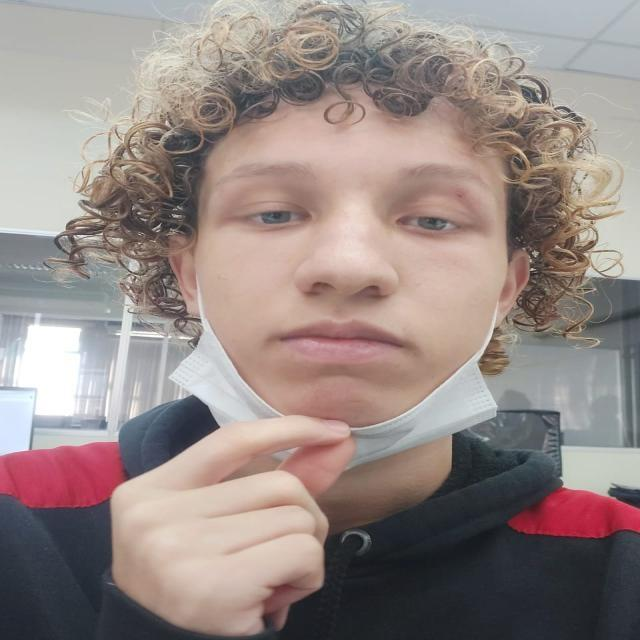hairnet: (204, 120, 486, 451)
